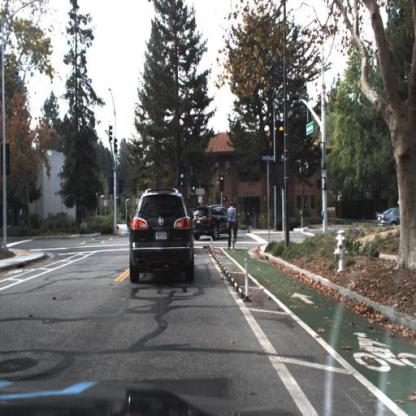biker: (226, 202, 239, 250), (125, 210, 135, 239)
car: (129, 187, 196, 286), (191, 204, 245, 245), (377, 204, 416, 233)
trafficLight: (179, 165, 185, 186), (191, 181, 197, 199)
trafficLight-Red: (278, 124, 286, 164), (220, 178, 226, 199)
